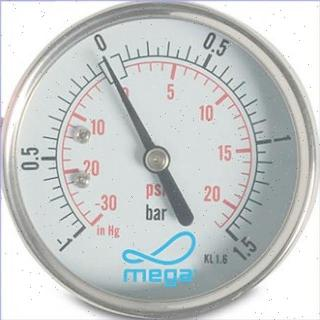gauge: (1, 1, 319, 319), (54, 210, 122, 260), (196, 213, 256, 263), (141, 144, 171, 174), (97, 50, 113, 70)
